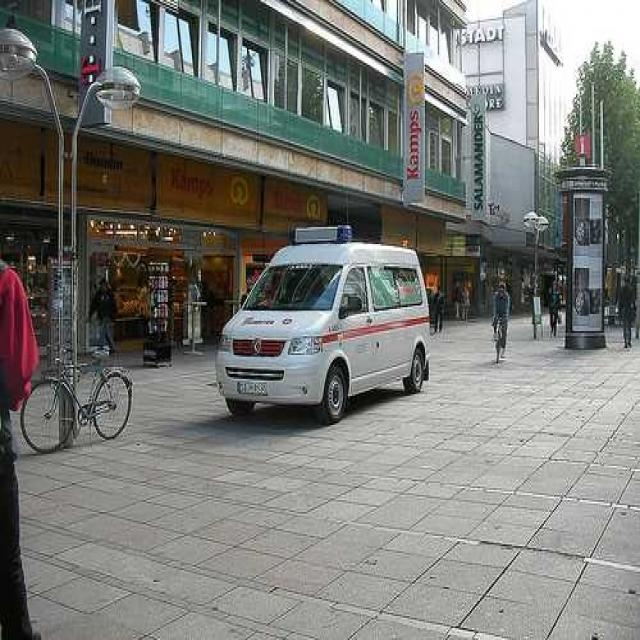emergency-vehicle: (213, 228, 432, 422)
